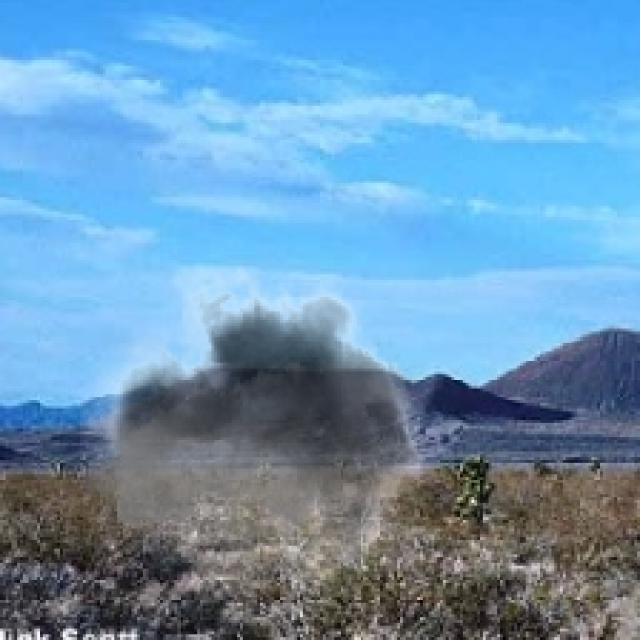Smoke: (80, 246, 449, 628)
